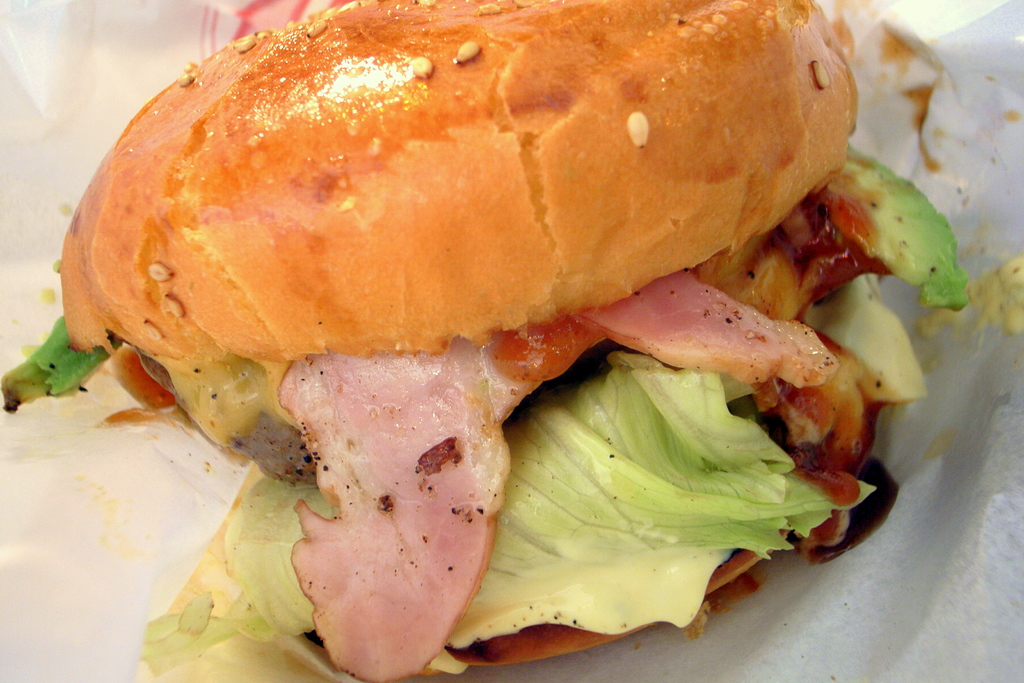Hamburger: (0, 0, 968, 682)
